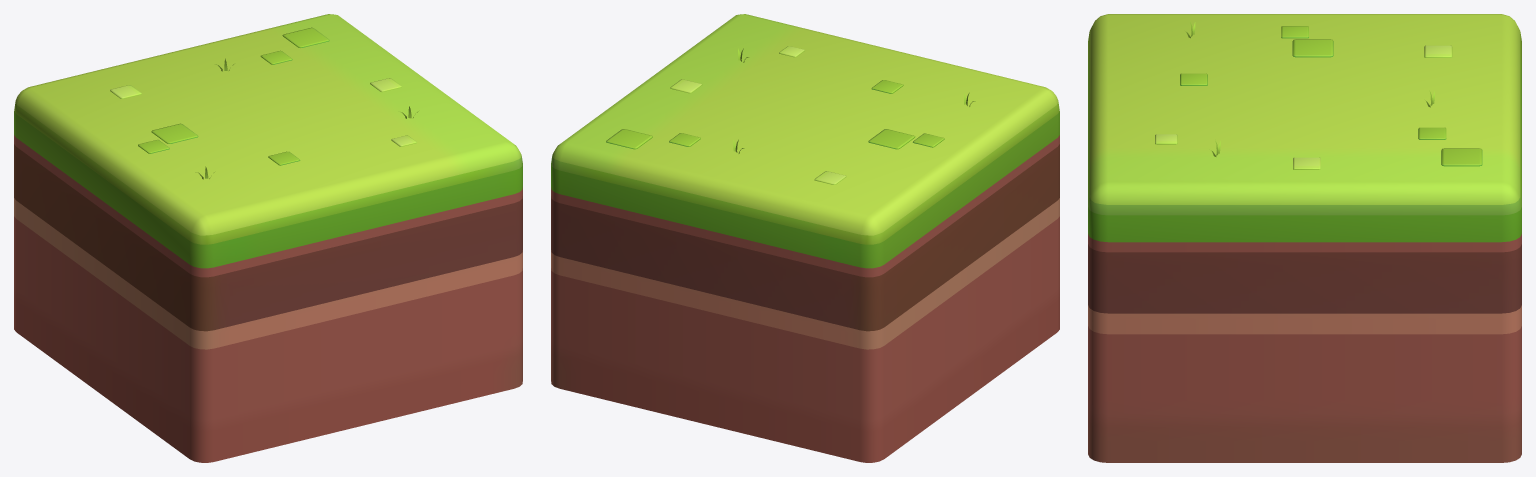
Rendered from Floor.fbx.
The picture shows the model from 3 angles, left to right: view 1: azimuth 30°, elevation 25°; view 2: azimuth 150°, elevation 25°; view 3: azimuth 270°, elevation 25°; orthographic projection. The views are drawn at different scales.
Visible parts, largest first — view 1: Cube.060; view 2: Cube.060; view 3: Cube.060.
Part boxes in pixels (<box>): Cube.060: <box>14,14,522,462</box>; Cube.060: <box>551,14,1059,462</box>; Cube.060: <box>1088,14,1521,462</box>.
Size of the model in its own units: 253 by 186 by 253.
